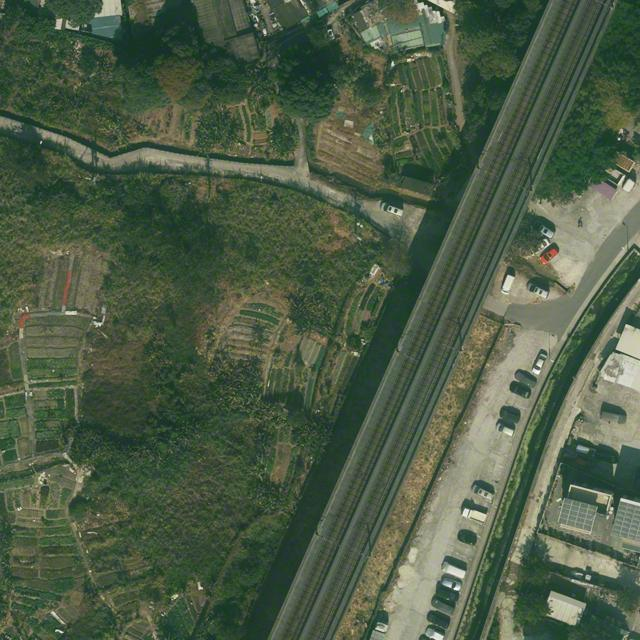SolarPanel: (557, 498, 598, 531), (612, 501, 639, 541)
